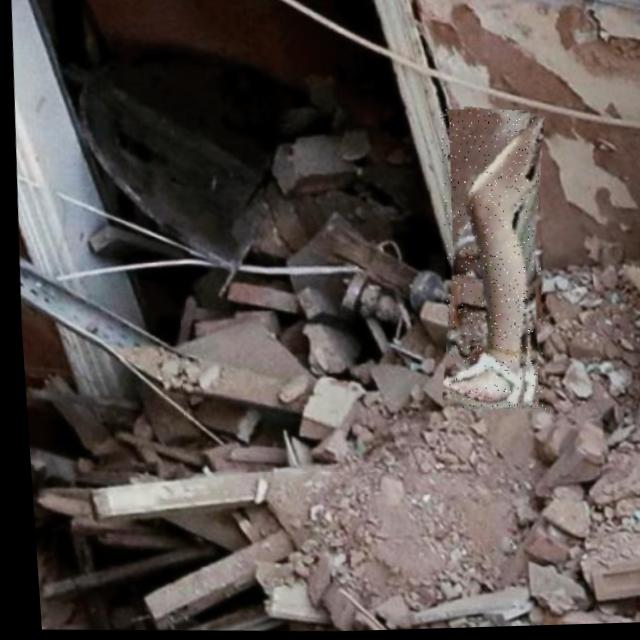Person in Rubble: (428, 109, 551, 414)
